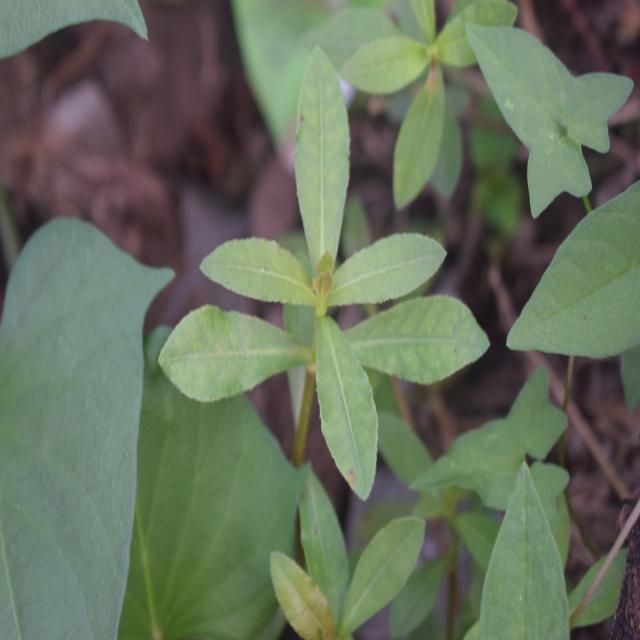Alligatorweed: (170, 76, 480, 488)
